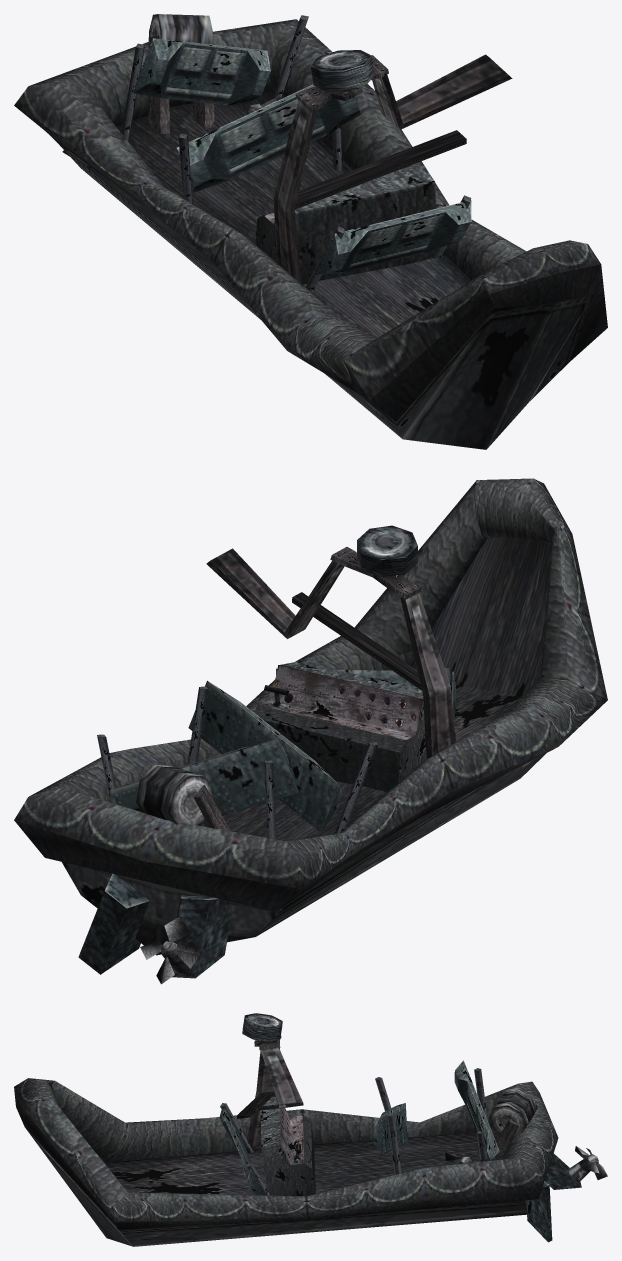
File: RHIBX.glb
3 views of the same model, one above another, from view 1: azimuth 30°, elevation 25°; view 2: azimuth 150°, elevation 25°; view 3: azimuth 270°, elevation 25° (orthographic). The views are drawn at different scales.
Visible parts, largest first — view 1: _RHIBX; view 2: _RHIBX; view 3: _RHIBX.
Part boxes in pixels (x1,y1,x2,y2): _RHIBX: [14, 14, 607, 449]; _RHIBX: [14, 478, 607, 984]; _RHIBX: [14, 1013, 607, 1246].
Bounding box in the file's own units: 4.2 × 4.37 × 11.15.
Materials: 2 (2 with a texture image).
